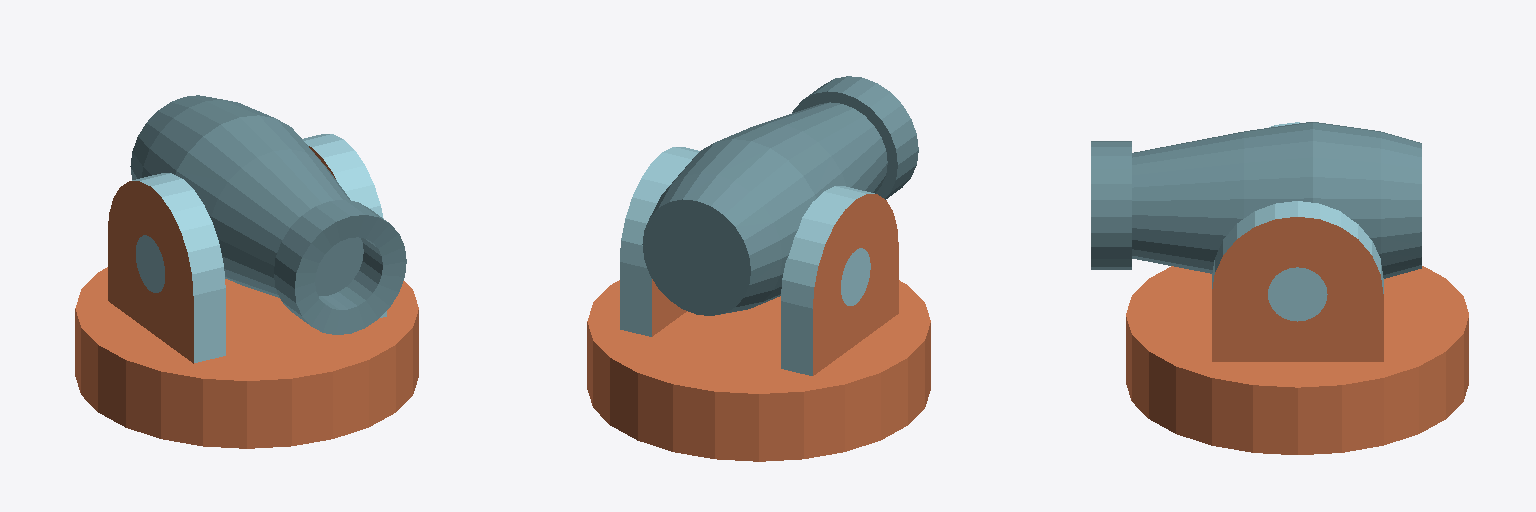
The model's file is weapon_cannon.obj.
The picture shows the model from 3 angles: view 1: azimuth 30°, elevation 25°; view 2: azimuth 150°, elevation 25°; view 3: azimuth 270°, elevation 25°; orthographic projection.
Visible parts, largest first — view 1: weapon_cannon, cannon; view 2: weapon_cannon, cannon; view 3: weapon_cannon, cannon.
Part boxes in pixels (bbox=[...]): weapon_cannon: bbox=[75, 134, 418, 448]; cannon: bbox=[130, 95, 406, 334]; weapon_cannon: bbox=[587, 147, 930, 461]; cannon: bbox=[642, 76, 918, 315]; weapon_cannon: bbox=[1126, 122, 1468, 454]; cannon: bbox=[1091, 122, 1421, 278].
Size of the model in its own units: 0.4598 by 0.3743 by 0.507.